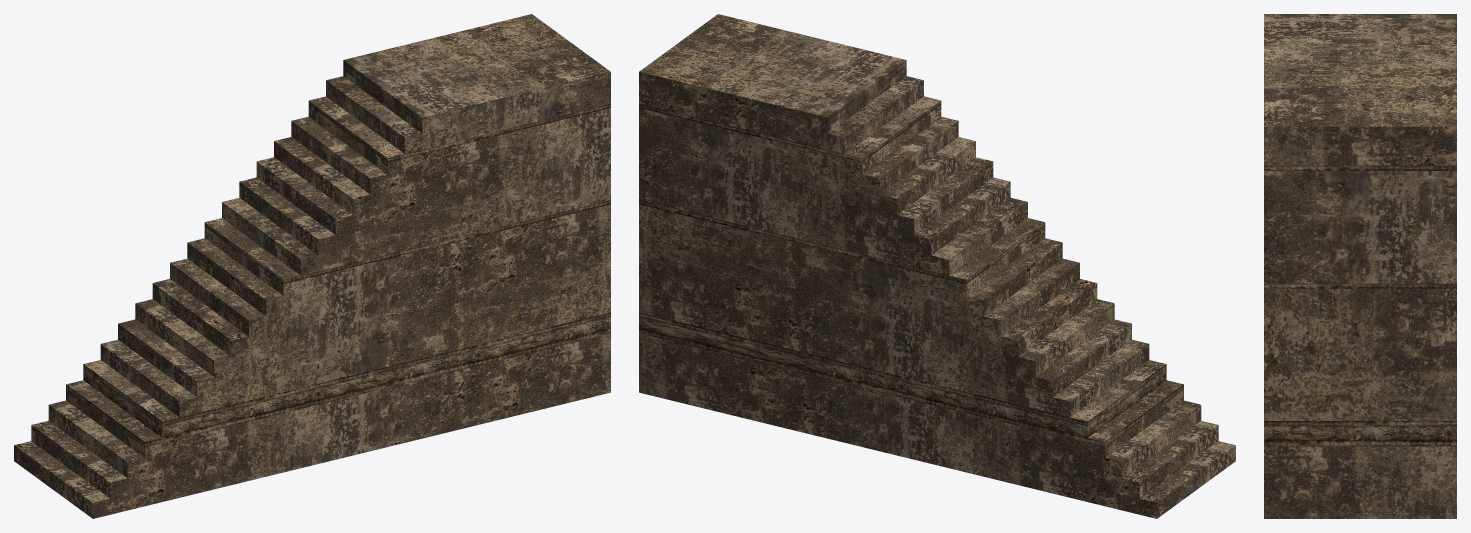
The model's file is materials_5_stairblock_7.fbx.
3 views of the same model, side by side, from view 1: azimuth 30°, elevation 25°; view 2: azimuth 150°, elevation 25°; view 3: azimuth 270°, elevation 25° (orthographic). The views are drawn at different scales.
Visible parts, largest first — view 1: materials_5_stairblock_7; view 2: materials_5_stairblock_7; view 3: materials_5_stairblock_7.
Boxes of the visible parts, x1,y1,x2,y2 form: materials_5_stairblock_7: [14, 14, 610, 518]; materials_5_stairblock_7: [639, 14, 1235, 518]; materials_5_stairblock_7: [1264, 14, 1456, 518].
Bounding box in the file's own units: 383 × 227 × 101.
